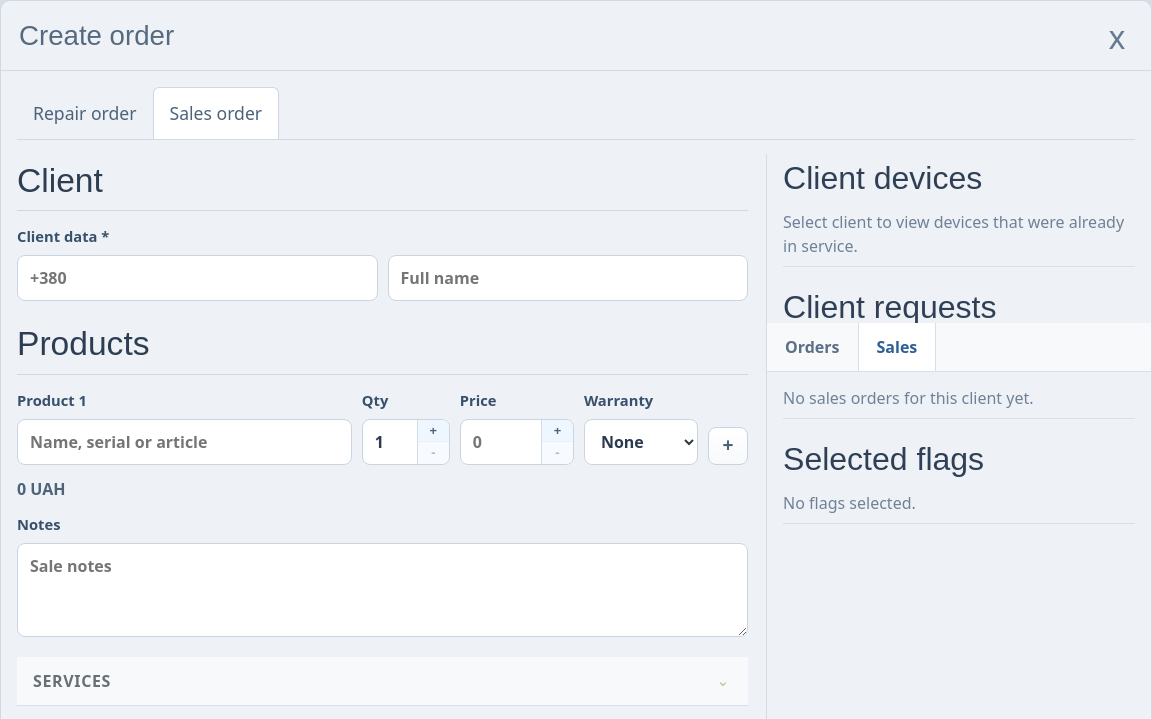
Scenario: CreateOrderCard › keeps catalog-only selection without price when stock is missing
Type "Catalog only" into the field with placeholder "Name, serial or article".
click(184, 442); type("Catalog only")  # box [17,419,352,465]
Wait 400 ms
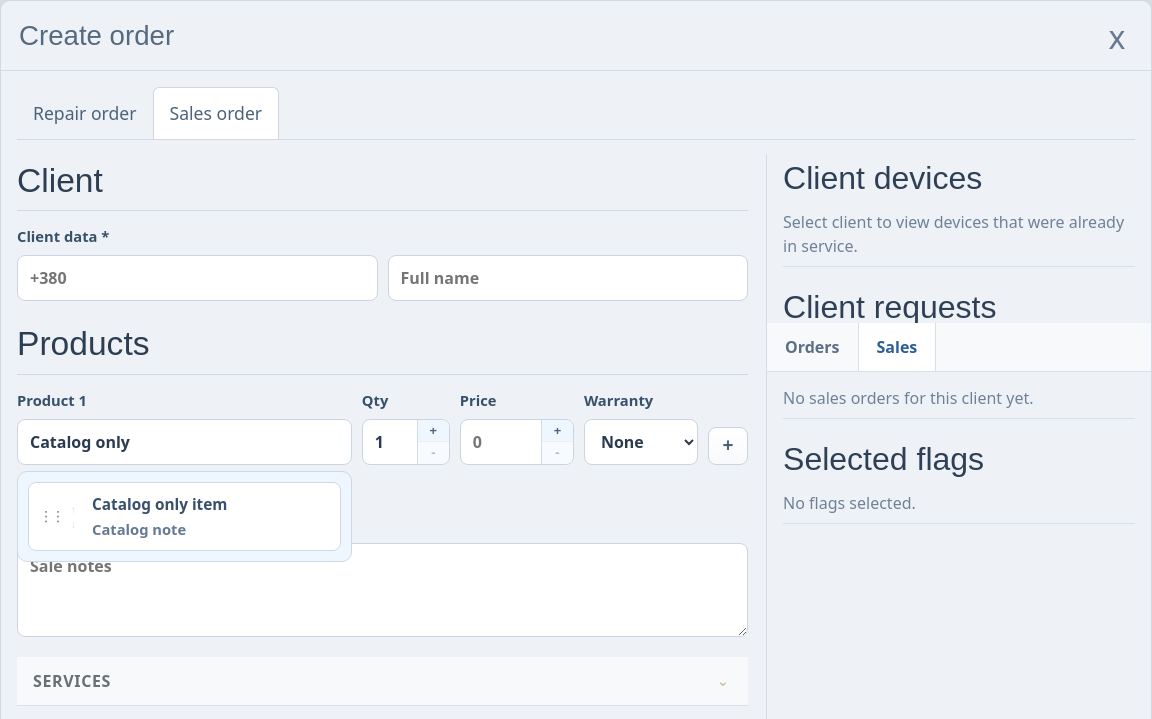
Result: the text "Catalog only item" is shown
Click the text "Catalog only item".
click(160, 504)  # box [92,494,228,515]
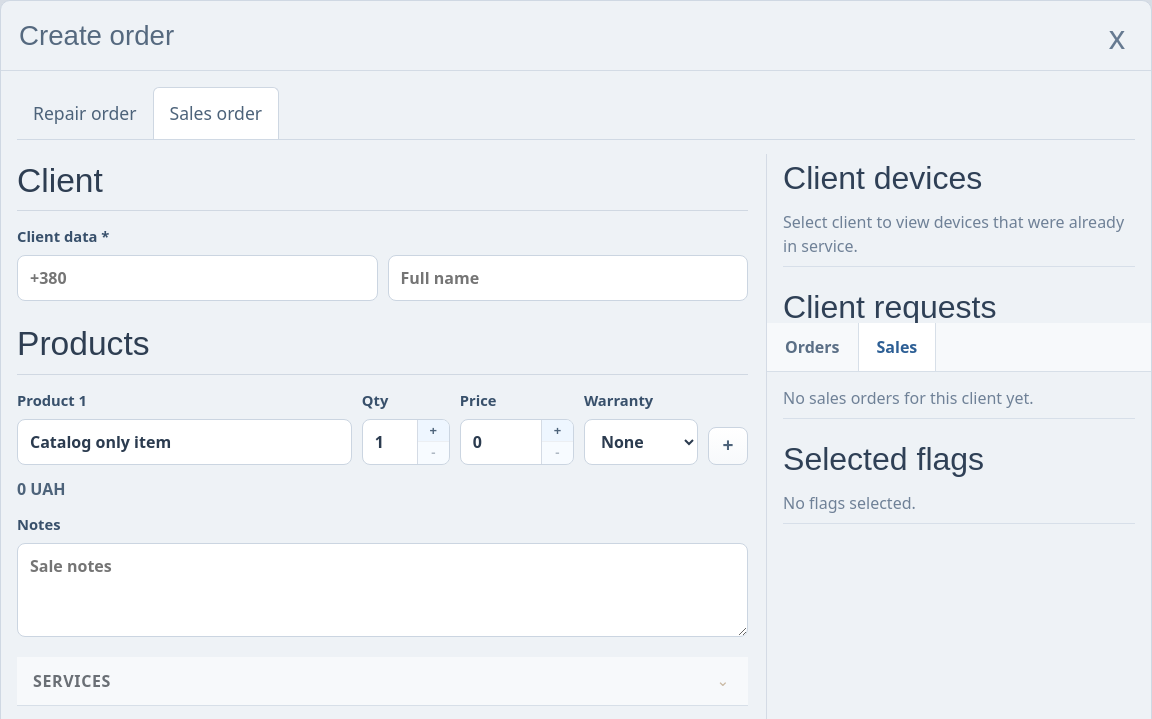
Result: the field labelled "Price + -" holds "0" at [461,420,541,464]
